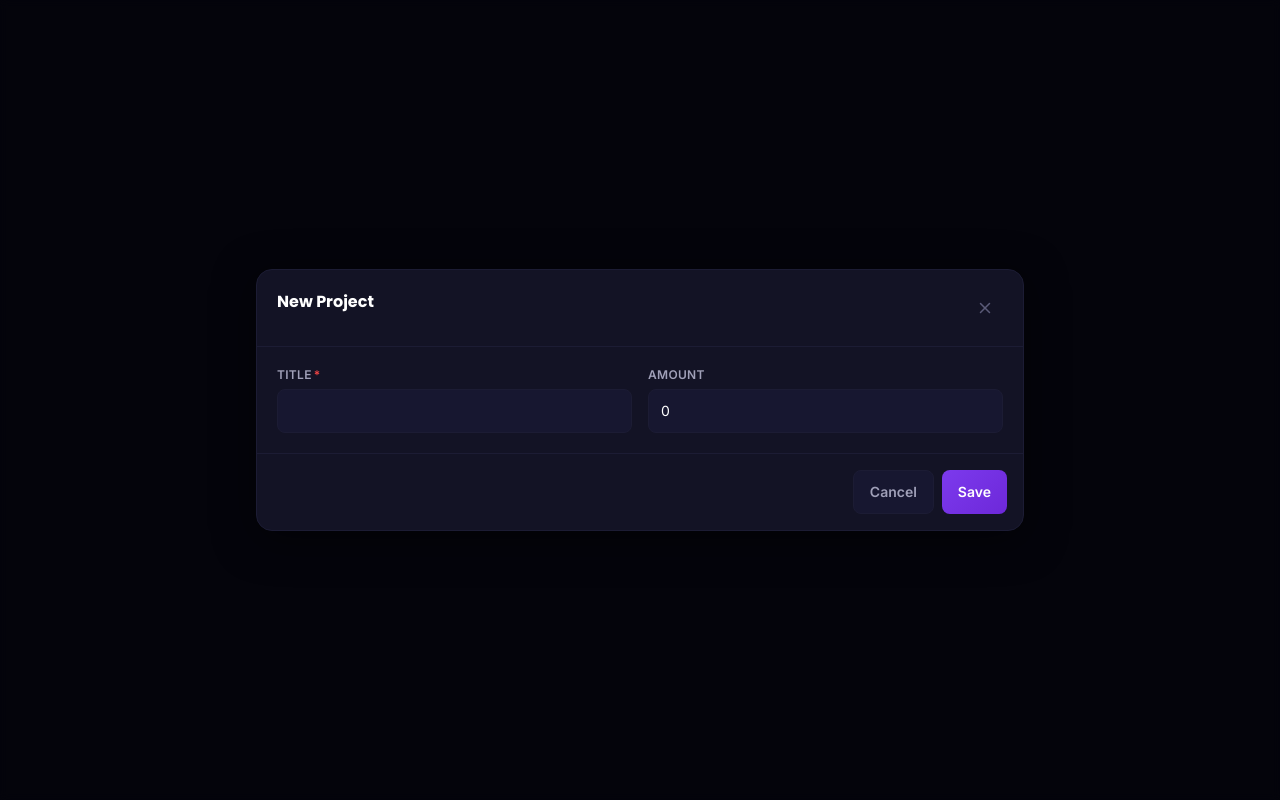
Test: RecordForm › blocks submission and reports missing required fields
Click the button "Save" at (974,492), box [942,470,1007,514]
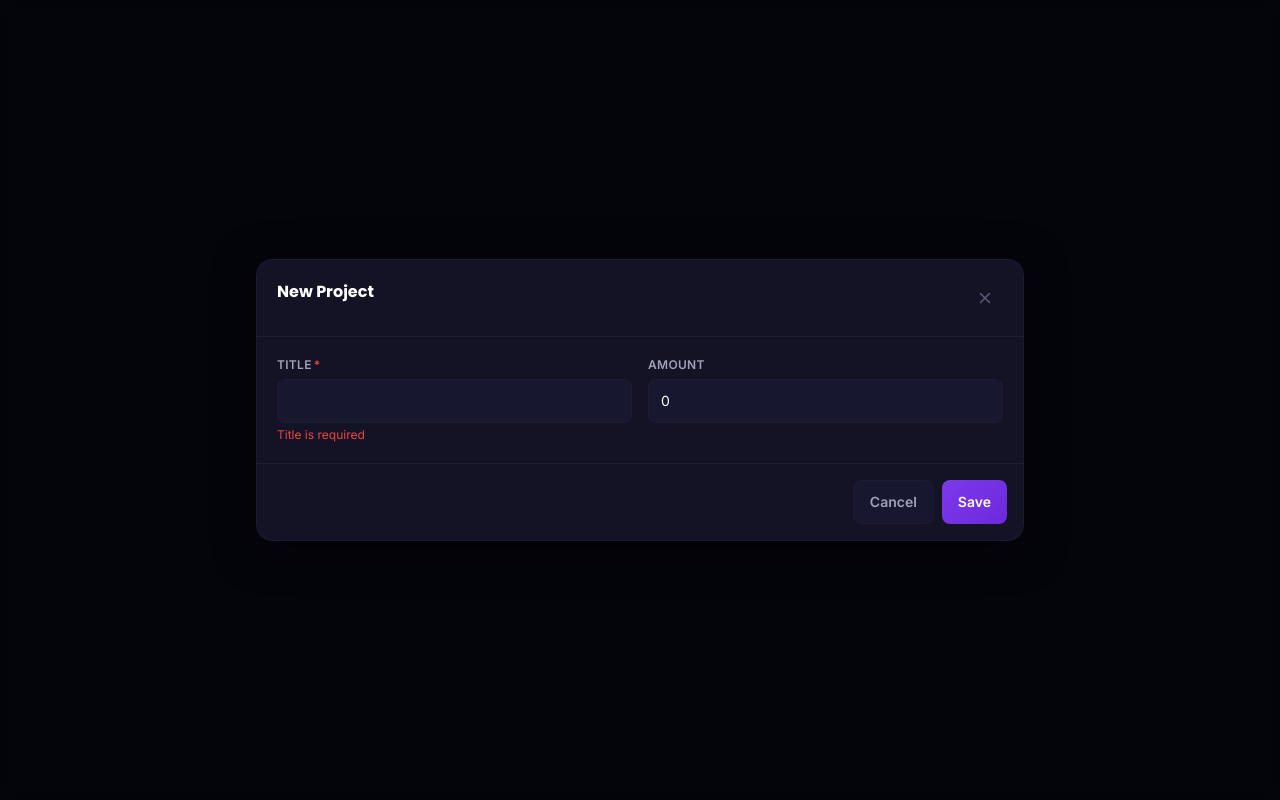
Expected: the text "Title is required" is shown, [277,427,365,442]
